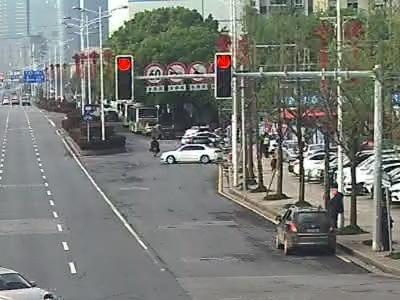red: (115, 51, 134, 72), (215, 51, 236, 70)
